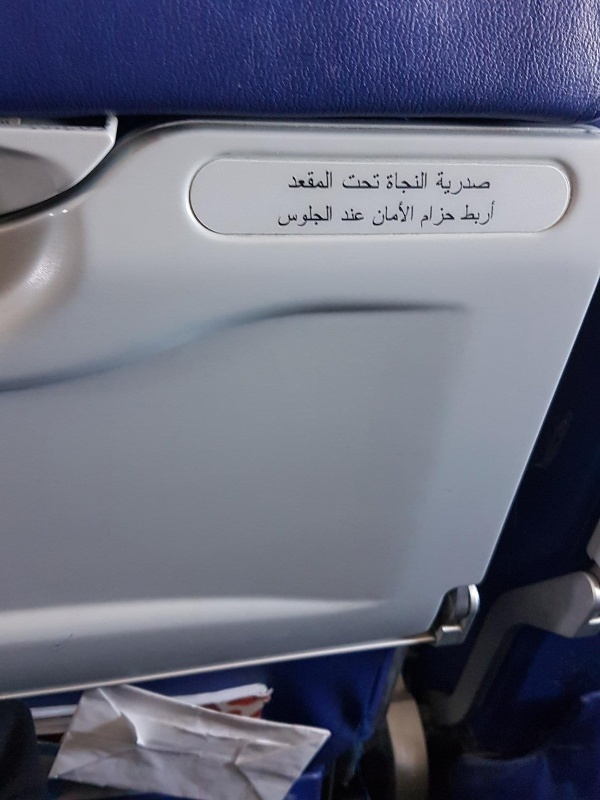text: (481, 199, 497, 227), (465, 199, 480, 227), (385, 201, 400, 227), (433, 204, 448, 229), (449, 172, 464, 196), (465, 172, 480, 196), (289, 204, 304, 228), (305, 204, 320, 228), (401, 172, 416, 195), (401, 201, 414, 227), (434, 172, 448, 196), (305, 169, 320, 189), (387, 172, 400, 195), (321, 204, 333, 228), (290, 169, 304, 189), (321, 169, 335, 189), (481, 172, 492, 196), (353, 173, 368, 190), (422, 204, 432, 229), (278, 204, 288, 228), (375, 201, 384, 227), (417, 172, 427, 195), (449, 204, 457, 229), (369, 173, 380, 190), (353, 208, 366, 222), (342, 173, 352, 190), (342, 208, 352, 222), (463, 199, 464, 227)
